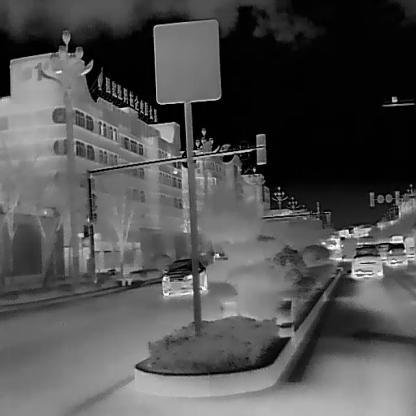car: (161, 258, 208, 295), (351, 245, 384, 280), (322, 230, 342, 260), (384, 241, 407, 266), (375, 241, 390, 261), (390, 234, 404, 242)
